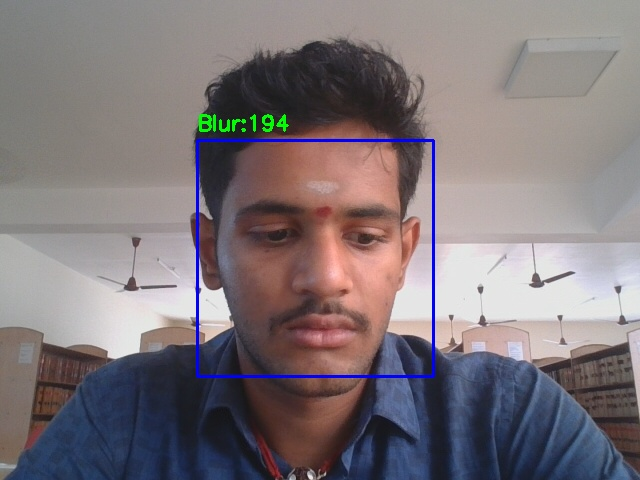real: (197, 140, 433, 376)
